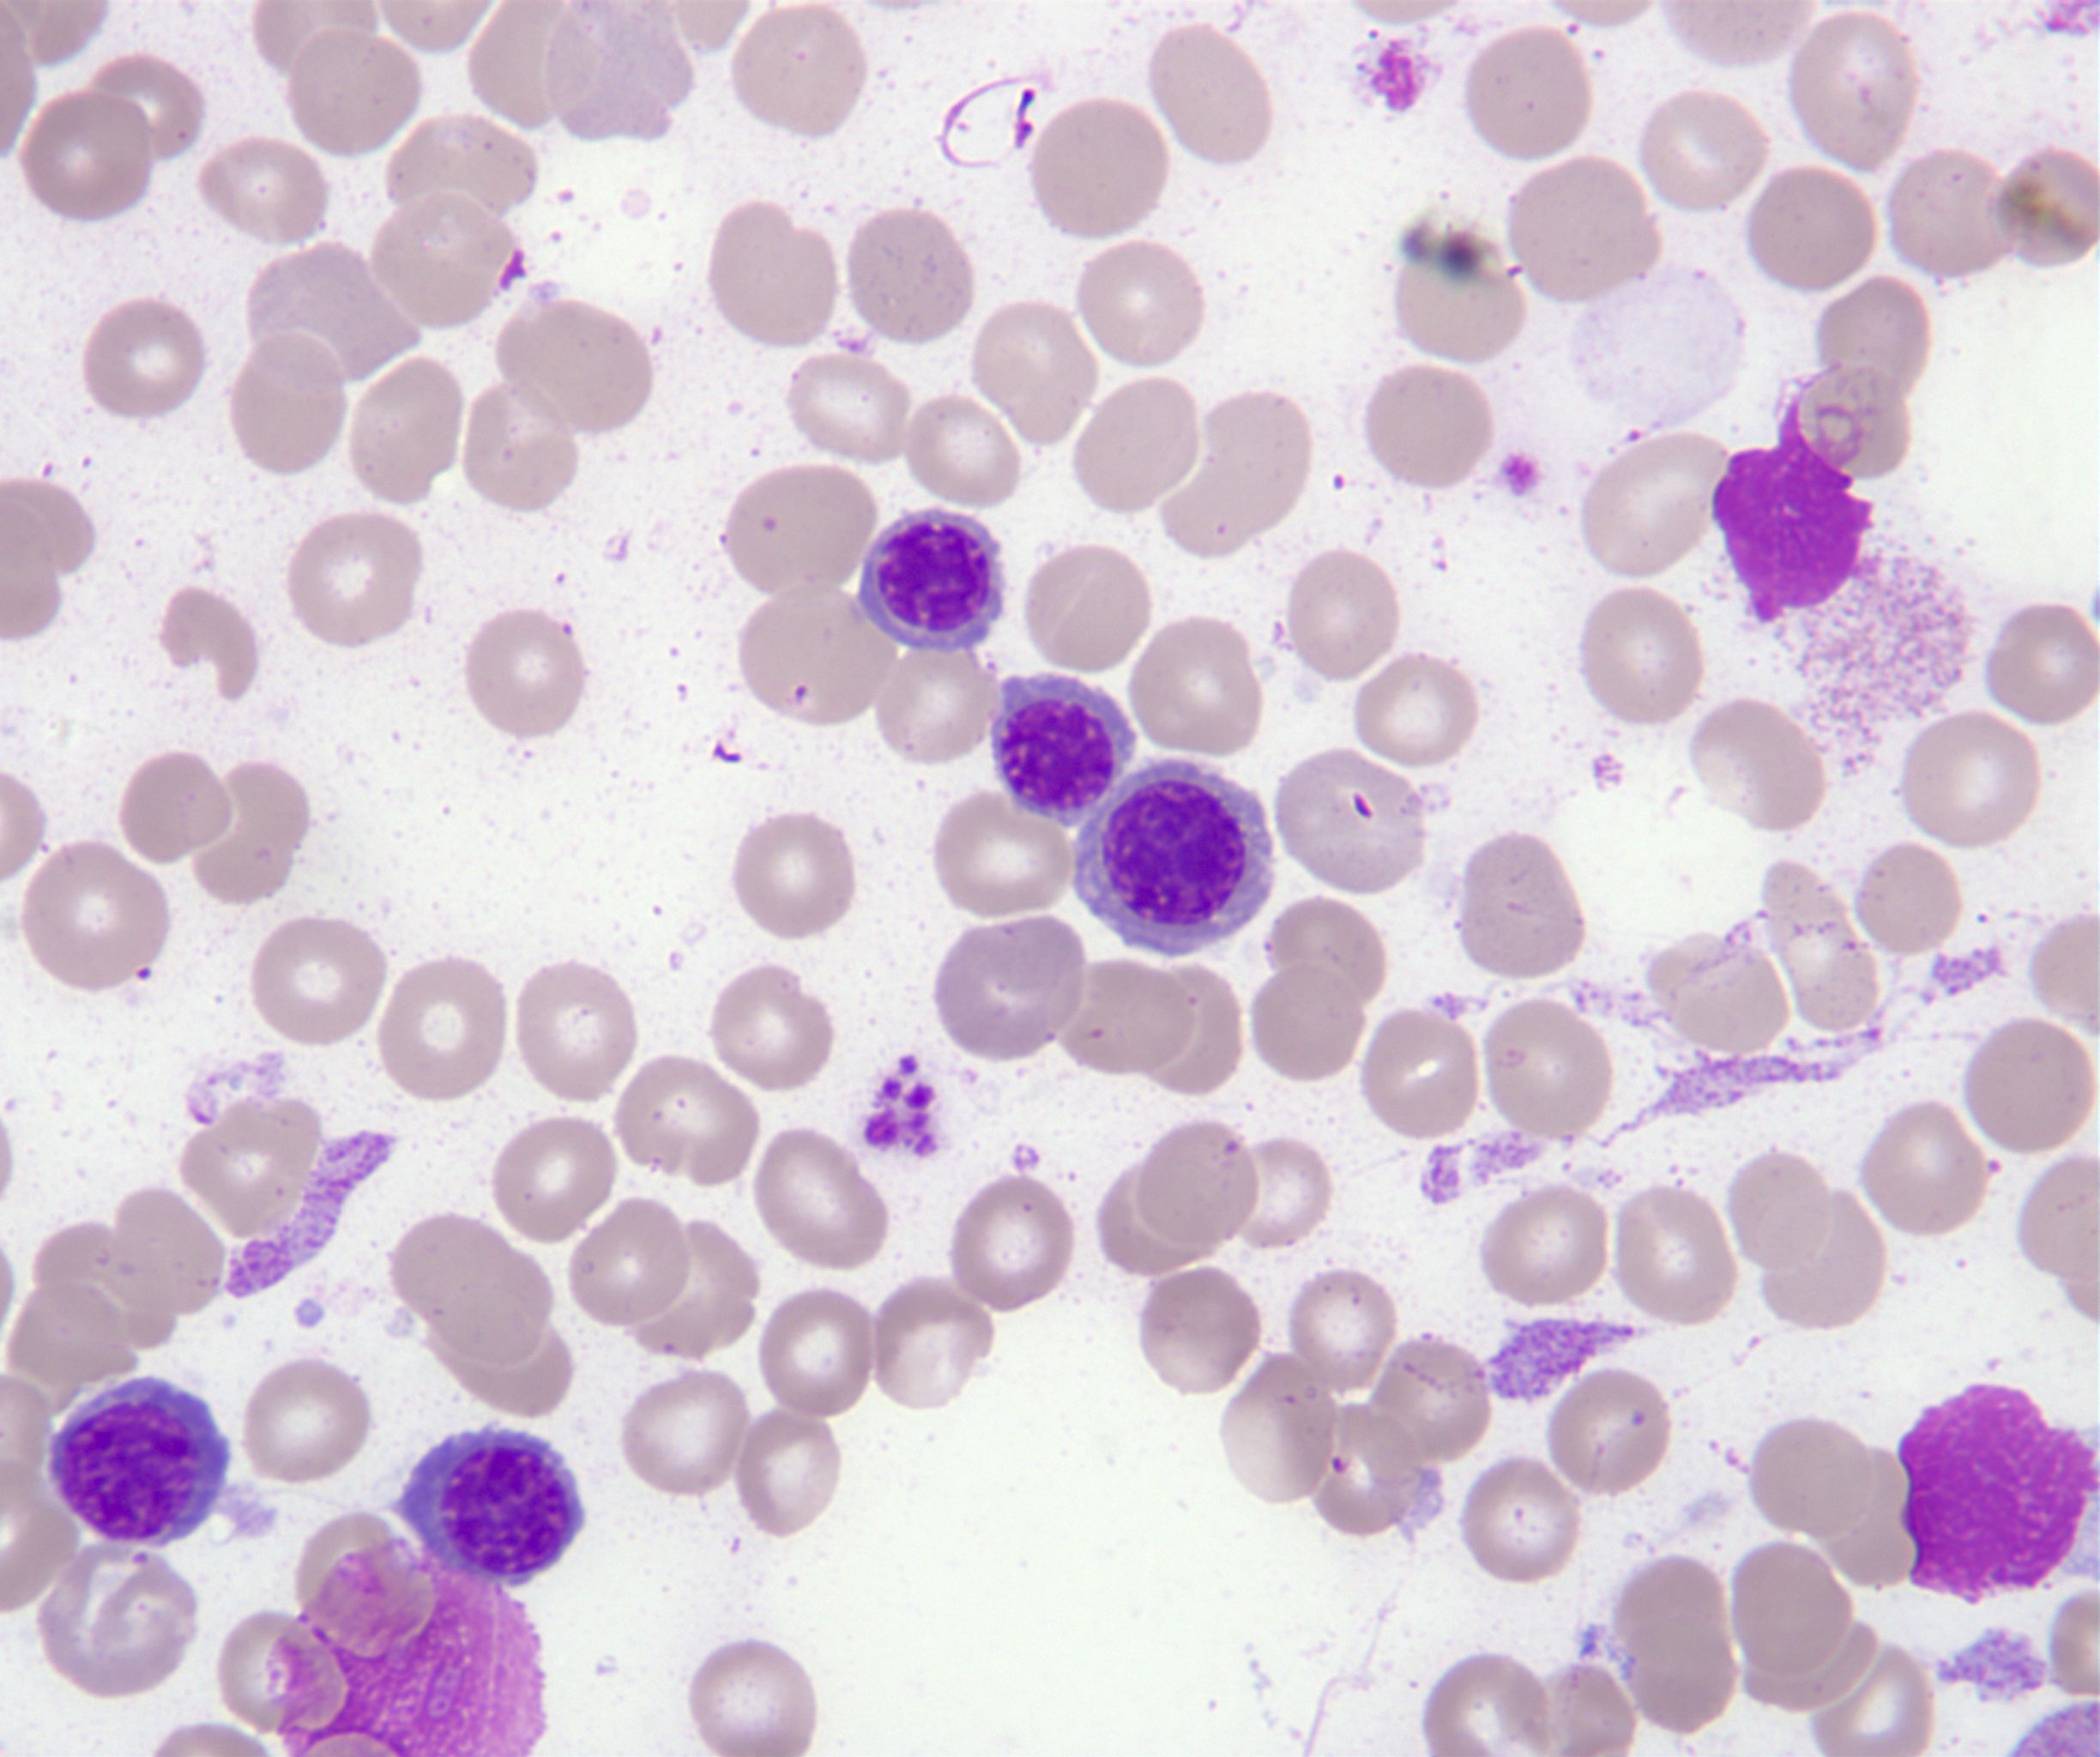23: (1071, 762, 1270, 954), (47, 1377, 230, 1546), (394, 1431, 583, 1588), (851, 509, 1001, 653), (992, 675, 1134, 827)
x: (269, 1546, 544, 1757), (1899, 1385, 2098, 1603), (1715, 361, 1873, 630)
